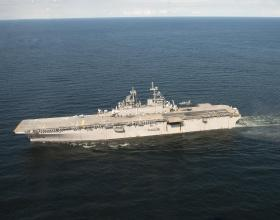warship: (13, 87, 242, 145)
